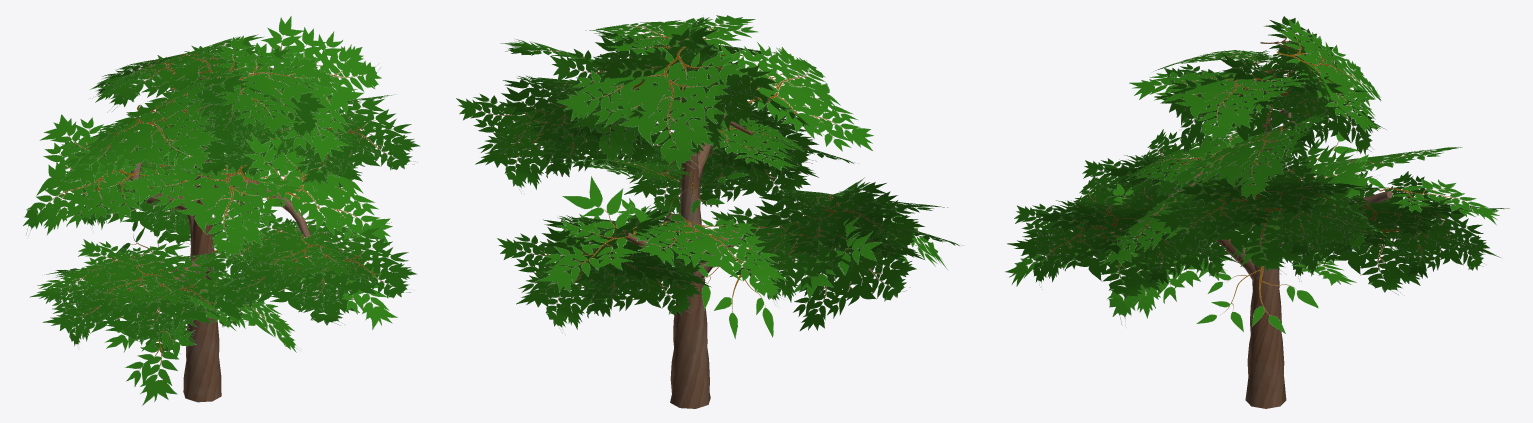
The model's file is tree.fbx.
The picture shows the model from 3 angles, left to right: view 1: azimuth 30°, elevation 25°; view 2: azimuth 150°, elevation 25°; view 3: azimuth 270°, elevation 25°; orthographic projection. The views are drawn at different scales.
Visible parts, largest first — view 1: polySurface16, sweep8; view 2: polySurface16, sweep8; view 3: polySurface16, sweep8.
Part boxes in pixels (left/top/right/bottom): polySurface16: left=23, top=16, right=420, bottom=405; sweep8: left=130, top=69, right=310, bottom=402; polySurface16: left=456, top=15, right=962, bottom=339; sweep8: left=588, top=80, right=784, bottom=408; polySurface16: left=1005, top=16, right=1509, bottom=333; sweep8: left=1120, top=71, right=1392, bottom=408.
Size of the model in its own units: 74.88 by 57.32 by 75.75.
